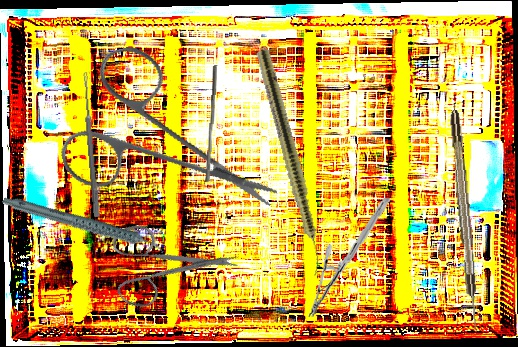Handpiece: (1, 165, 166, 287), (252, 48, 331, 278)
Hook Surgical: (449, 109, 481, 334)
Iris Scissors: (35, 16, 281, 263), (87, 183, 244, 338)
Needle Holder: (307, 193, 391, 322)
Pusher: (204, 64, 218, 183)
Surgical Spoon: (81, 71, 101, 218)
